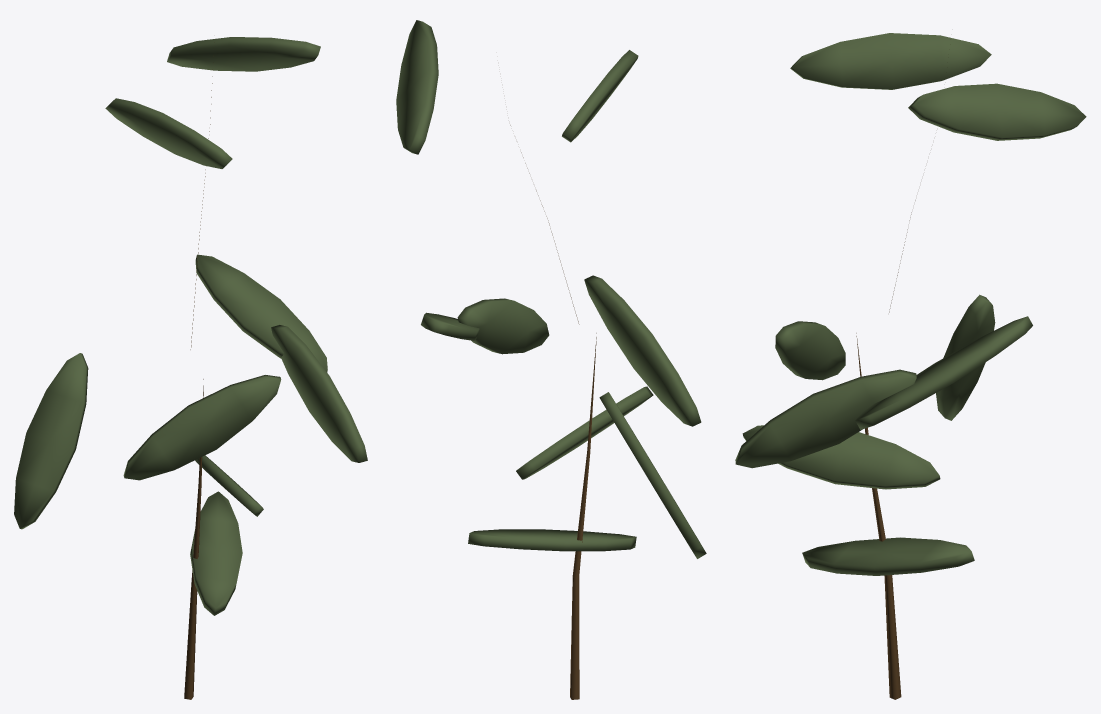
Rendered from bush-tree-001-lod1.glb.
3 views of the same model, side by side, from view 1: azimuth 30°, elevation 25°; view 2: azimuth 150°, elevation 25°; view 3: azimuth 270°, elevation 25° (orthographic). The views are drawn at different scales.
Parts seen in each view (by area): view 1: v_tree.001; view 2: v_tree.001; view 3: v_tree.001.
Boxes of the visible parts, <box> form: v_tree.001: <box>14,37,367,699</box>; v_tree.001: <box>396,20,706,699</box>; v_tree.001: <box>735,33,1086,699</box>.
Bounding box in the file's own units: 1.73 × 3.73 × 1.66.
